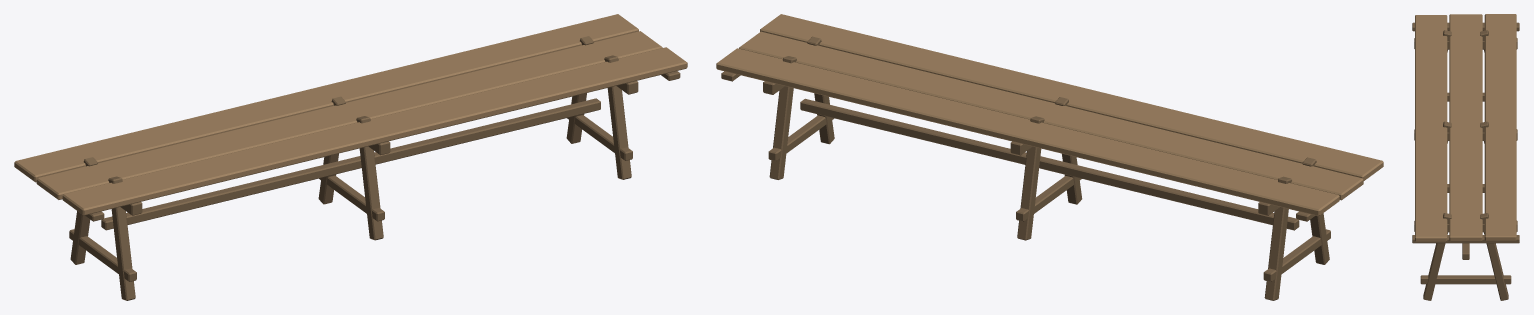
File: table.glb
3 views of the same model, side by side, from view 1: azimuth 30°, elevation 25°; view 2: azimuth 150°, elevation 25°; view 3: azimuth 270°, elevation 25° (orthographic). The views are drawn at different scales.
Visible parts, largest first — view 1: table_top, table_frame; view 2: table_top, table_frame; view 3: table_top, table_frame.
Part boxes in pixels (bbox=[...]): table_top: bbox=[14, 14, 687, 215]; table_frame: bbox=[69, 36, 680, 300]; table_top: bbox=[716, 14, 1383, 216]; table_frame: bbox=[721, 36, 1330, 300]; table_top: bbox=[1415, 14, 1516, 241]; table_frame: bbox=[1412, 22, 1519, 300].
Size of the model in its own units: 5.02 by 0.8923 by 1.02.
